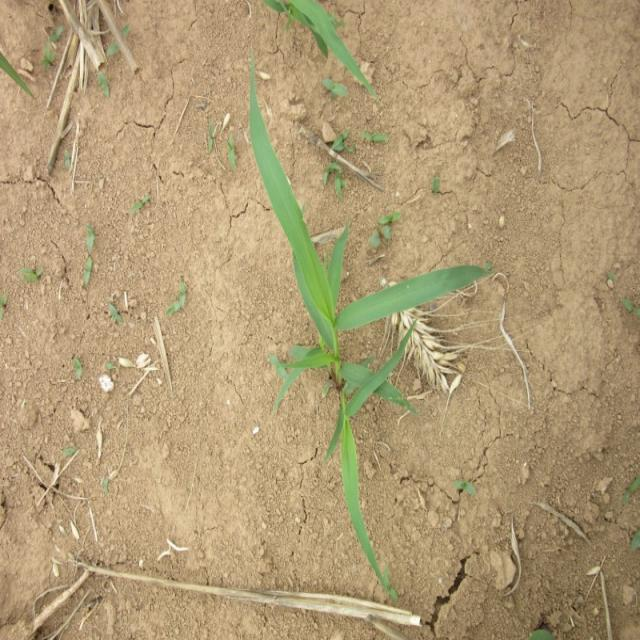bg: (245, 60, 493, 592)
